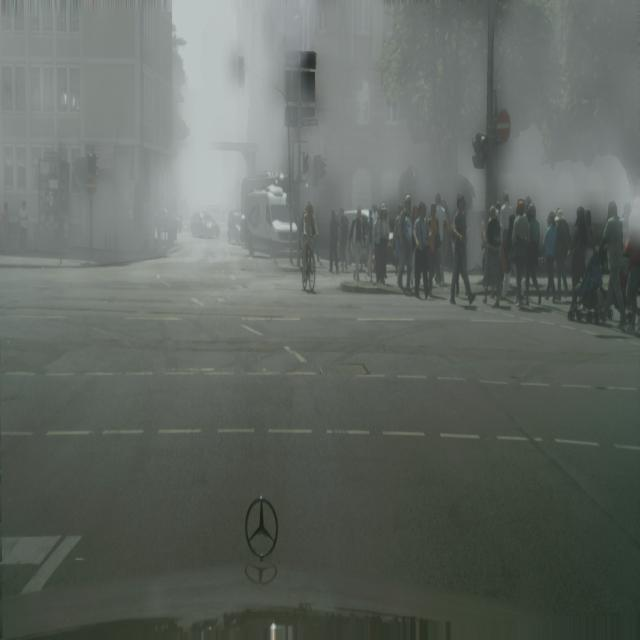bus: (597, 199, 628, 329), (448, 194, 477, 307), (570, 203, 596, 319), (623, 196, 640, 336), (511, 198, 529, 308), (412, 201, 432, 300), (483, 204, 502, 306), (524, 204, 542, 306), (397, 195, 414, 292), (553, 200, 568, 302), (301, 202, 318, 282), (375, 202, 390, 285), (350, 206, 365, 282), (18, 199, 28, 254), (2, 202, 10, 253)
car: (241, 171, 298, 259)
person: (190, 209, 220, 238), (156, 207, 183, 239), (228, 208, 245, 245)
truck: (301, 234, 317, 292)
